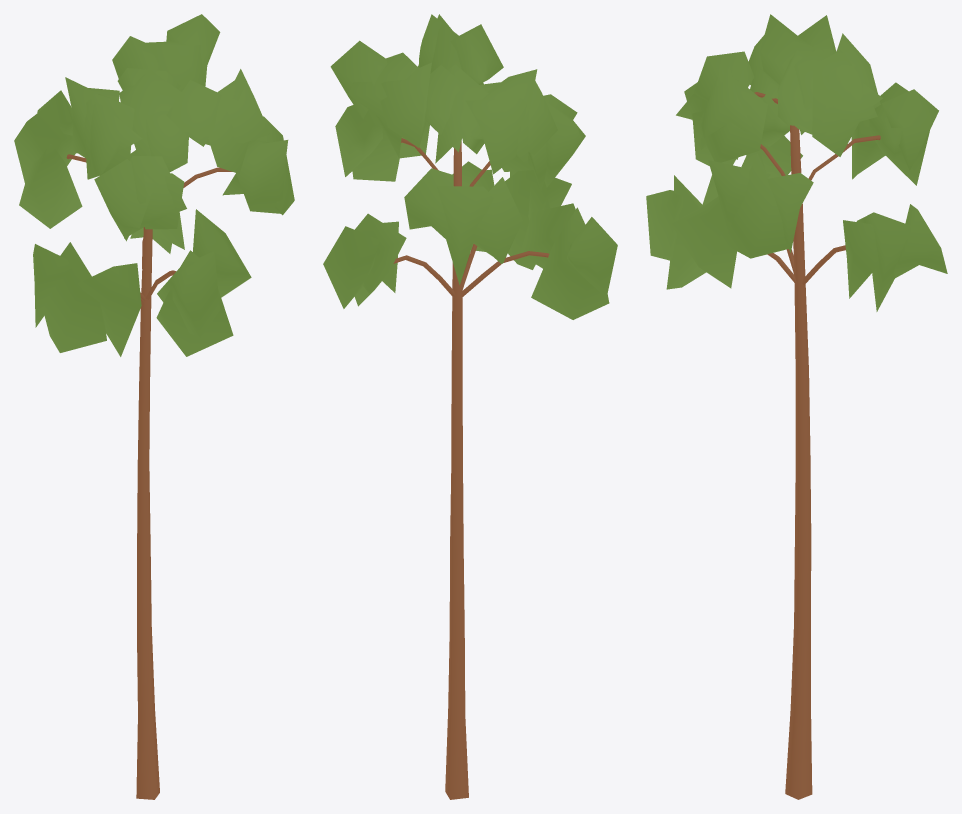
The model's file is Blender_LongleafPine_1_Far.glb.
3 renders of one model, left to right at view 1: azimuth 30°, elevation 25°; view 2: azimuth 150°, elevation 25°; view 3: azimuth 270°, elevation 25°, orthographic. The views are drawn at different scales.
Visible parts, largest first — view 1: Blender_LongleafPine_1_Far; view 2: Blender_LongleafPine_1_Far; view 3: Blender_LongleafPine_1_Far.
Boxes of the visible parts, x1,y1,x2,y2 form: Blender_LongleafPine_1_Far: (14,14,294,799); Blender_LongleafPine_1_Far: (323,14,617,799); Blender_LongleafPine_1_Far: (646,14,947,799).
Size of the model in its own units: 11.26 by 30.62 by 10.91.
